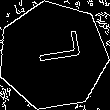L_W: (25, 36, 81, 75)
